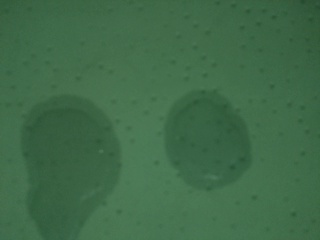Water_detected: (29, 109, 107, 221), (173, 101, 239, 184)
